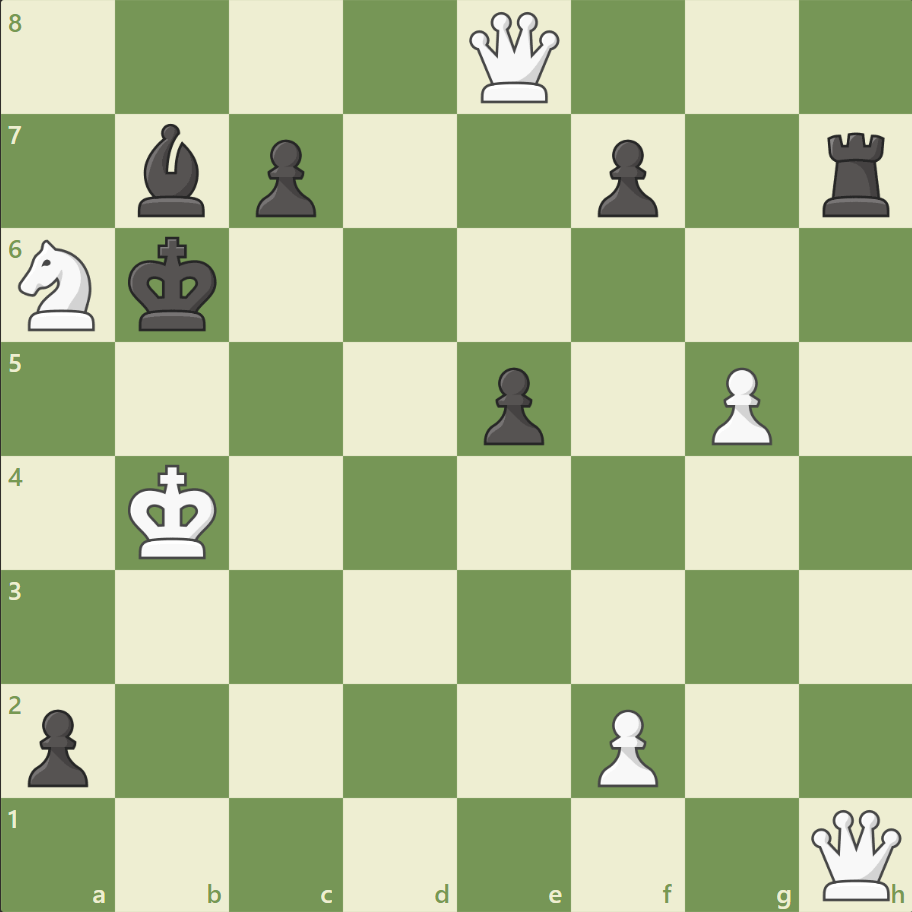K: (124, 458, 224, 566)
N: (11, 234, 108, 337)
P: (701, 359, 776, 450), (588, 700, 662, 791)
Q: (464, 9, 563, 108), (805, 804, 904, 903)
b: (131, 120, 215, 222)
k: (124, 231, 224, 339)
p: (247, 132, 322, 223), (474, 359, 549, 450), (20, 700, 95, 791), (588, 132, 662, 223)
r: (814, 125, 897, 222)
